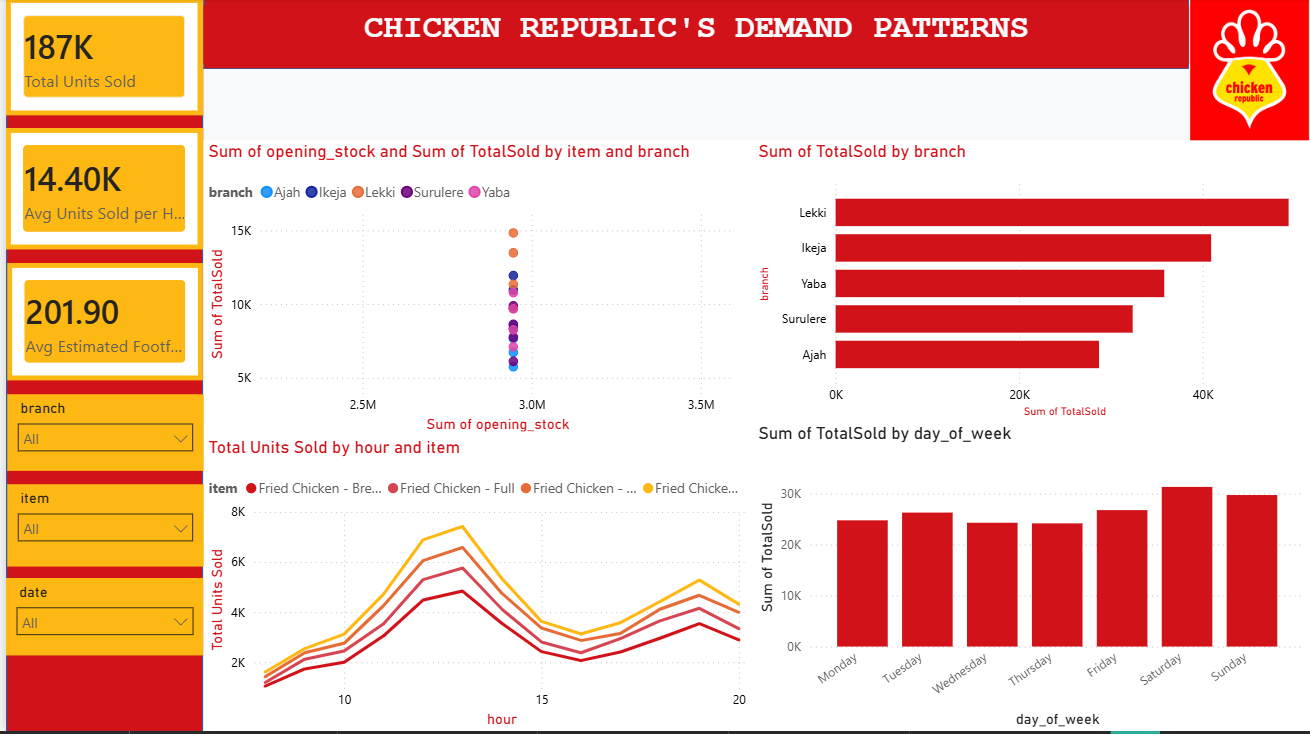

This screenshot's page, from the dashboard's own definition file:
{"tool":"powerbi","page":{"name":"DEMAND PATTERNS","canvas":[1280,720],"ordinal":2},"visuals":[{"type":"shape","box":[0,0,193.5,720.4],"z":0},{"type":"image","box":[1160.9,0,119.4,140],"z":1000},{"type":"cardVisual","fields":{"Data":["tasty_fried_chicken_raw_dataset.Total Units Sold"]},"box":[0,0,193.5,115.3],"z":2000},{"type":"cardVisual","fields":{"Data":["DailySummary.Avg Units Sold per Hour"]},"box":[0,127.6,193.5,119.4],"z":3000},{"type":"cardVisual","fields":{"Data":["DailySummary.Avg Estimated Footfall"]},"box":[1.4,260.7,192.1,115.3],"z":4000},{"type":"columnChart","fields":{"Category":["DailySummary.day_of_week"],"Y":["Sum(DailySummary.TotalSold)"]},"box":[734.1,417.2,546.1,303.3],"z":5000},{"type":"shape","box":[193.5,0,967.4,70],"z":6000},{"type":"scatterChart","fields":{"X":["Sum(tasty_fried_chicken_raw_dataset.opening_stock)"],"Y":["Sum(DailySummary.TotalSold)"],"Category":["DailySummary.item"],"Series":["DailySummary.branch"]},"box":[193.5,140,540.7,290.9],"z":7000},{"type":"clusteredBarChart","fields":{"Category":["DailySummary.branch"],"Y":["Sum(DailySummary.TotalSold)"]},"box":[734.1,140,546.1,277.2],"z":8000},{"type":"lineChart","fields":{"Category":["tasty_fried_chicken_raw_dataset.hour"],"Y":["tasty_fried_chicken_raw_dataset.Total Units Sold"],"Series":["tasty_fried_chicken_raw_dataset.item"]},"box":[193.5,430.9,540.7,289.5],"z":9000},{"type":"textbox","box":[193.5,6.9,967.4,57.6],"z":10000},{"type":"slicer","fields":{"Values":["DailySummary.branch"]},"box":[1.2,389,192.6,74.8],"z":10001},{"type":"slicer","fields":{"Values":["DailySummary.item"]},"box":[1.2,477.3,192.6,81],"z":10002},{"type":"slicer","fields":{"Values":["DailySummary.date"]},"box":[0,569.3,193.9,76.1],"z":10003}]}

Visuals, with their boxes in screenshot pixels (x1, y1, x2, y2), scaled from the page's 1280x720 canvas onto the 1310x734 screenshot:
shape: 0,0,198,733
image: 1188,0,1309,143
cardVisual - tasty_fried_chicken_raw_dataset.Total Units Sold: 0,0,198,118
cardVisual - DailySummary.Avg Units Sold per Hour: 0,130,198,252
cardVisual - DailySummary.Avg Estimated Footfall: 1,266,198,383
columnChart - DailySummary.day_of_week x Sum(DailySummary.TotalSold): 751,425,1309,733
shape: 198,0,1188,71
scatterChart - Sum(tasty_fried_chicken_raw_dataset.opening_stock) x Sum(DailySummary.TotalSold): 198,143,751,439
clusteredBarChart - DailySummary.branch x Sum(DailySummary.TotalSold): 751,143,1309,425
lineChart - tasty_fried_chicken_raw_dataset.hour x tasty_fried_chicken_raw_dataset.Total Units Sold: 198,439,751,733
textbox: 198,7,1188,66
slicer - DailySummary.branch: 1,397,198,473
slicer - DailySummary.item: 1,487,198,569
slicer - DailySummary.date: 0,580,198,658
